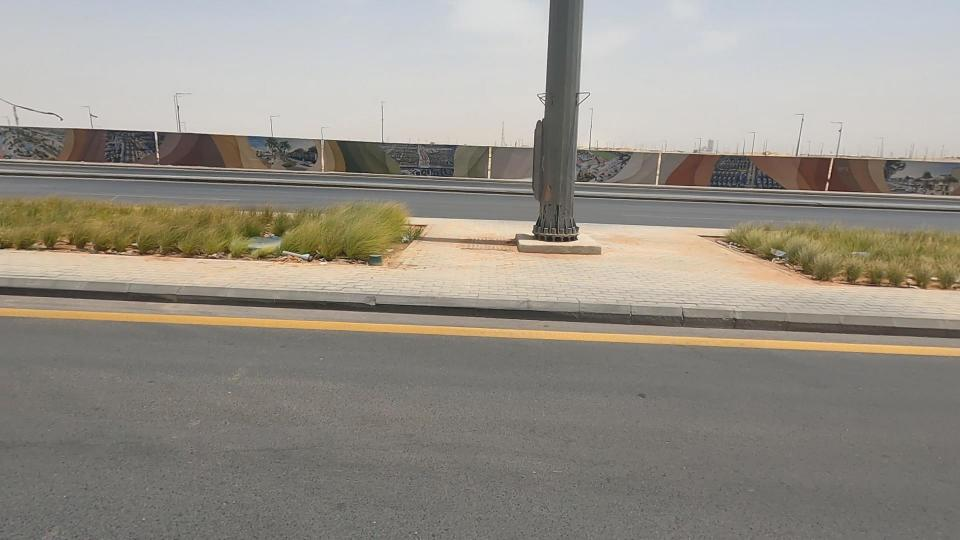GARBAGE: (220, 215, 352, 288), (325, 232, 409, 282)
